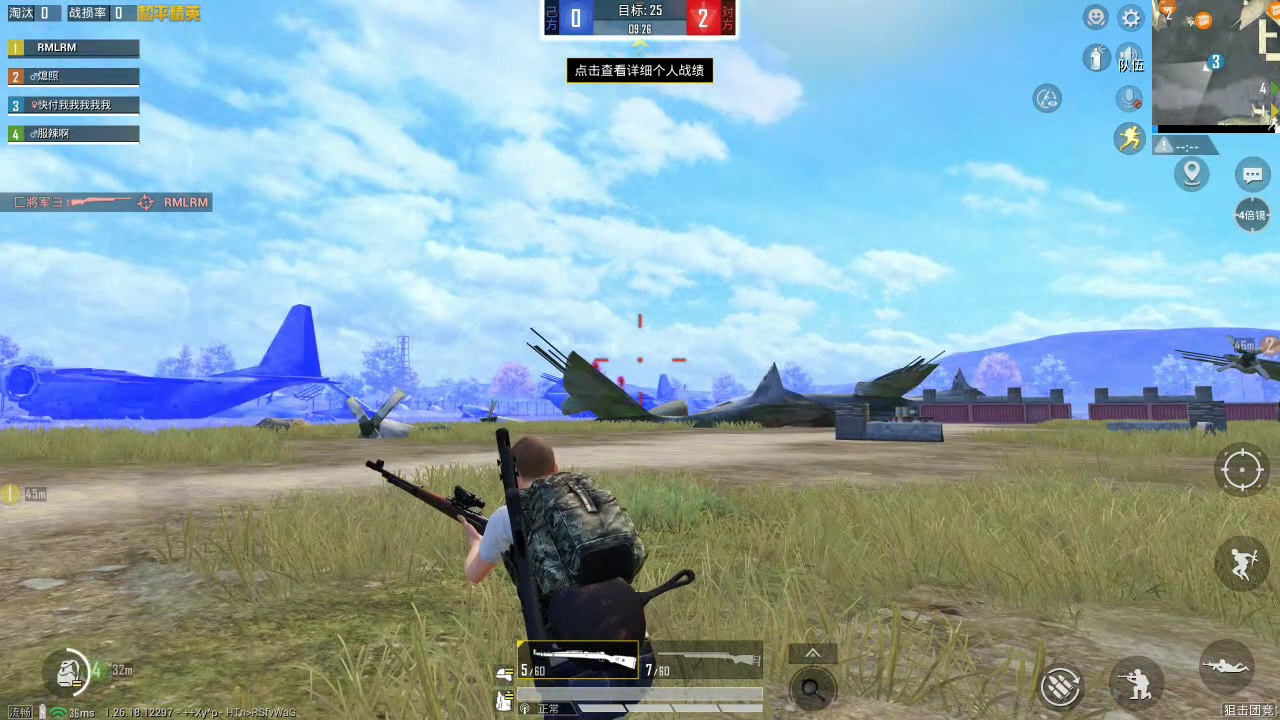enemy: (617, 374, 625, 390), (593, 358, 600, 370)
